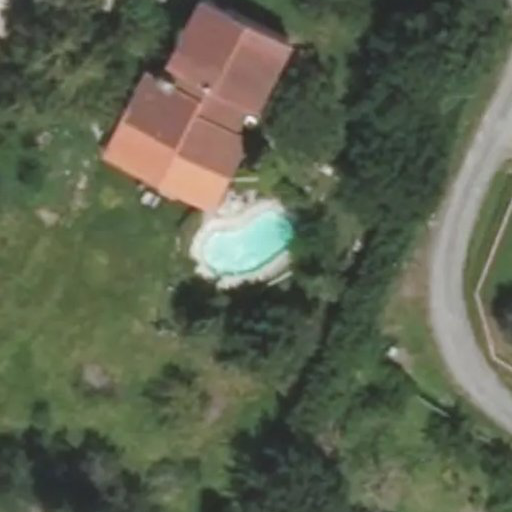pool: (198, 237, 308, 245)
